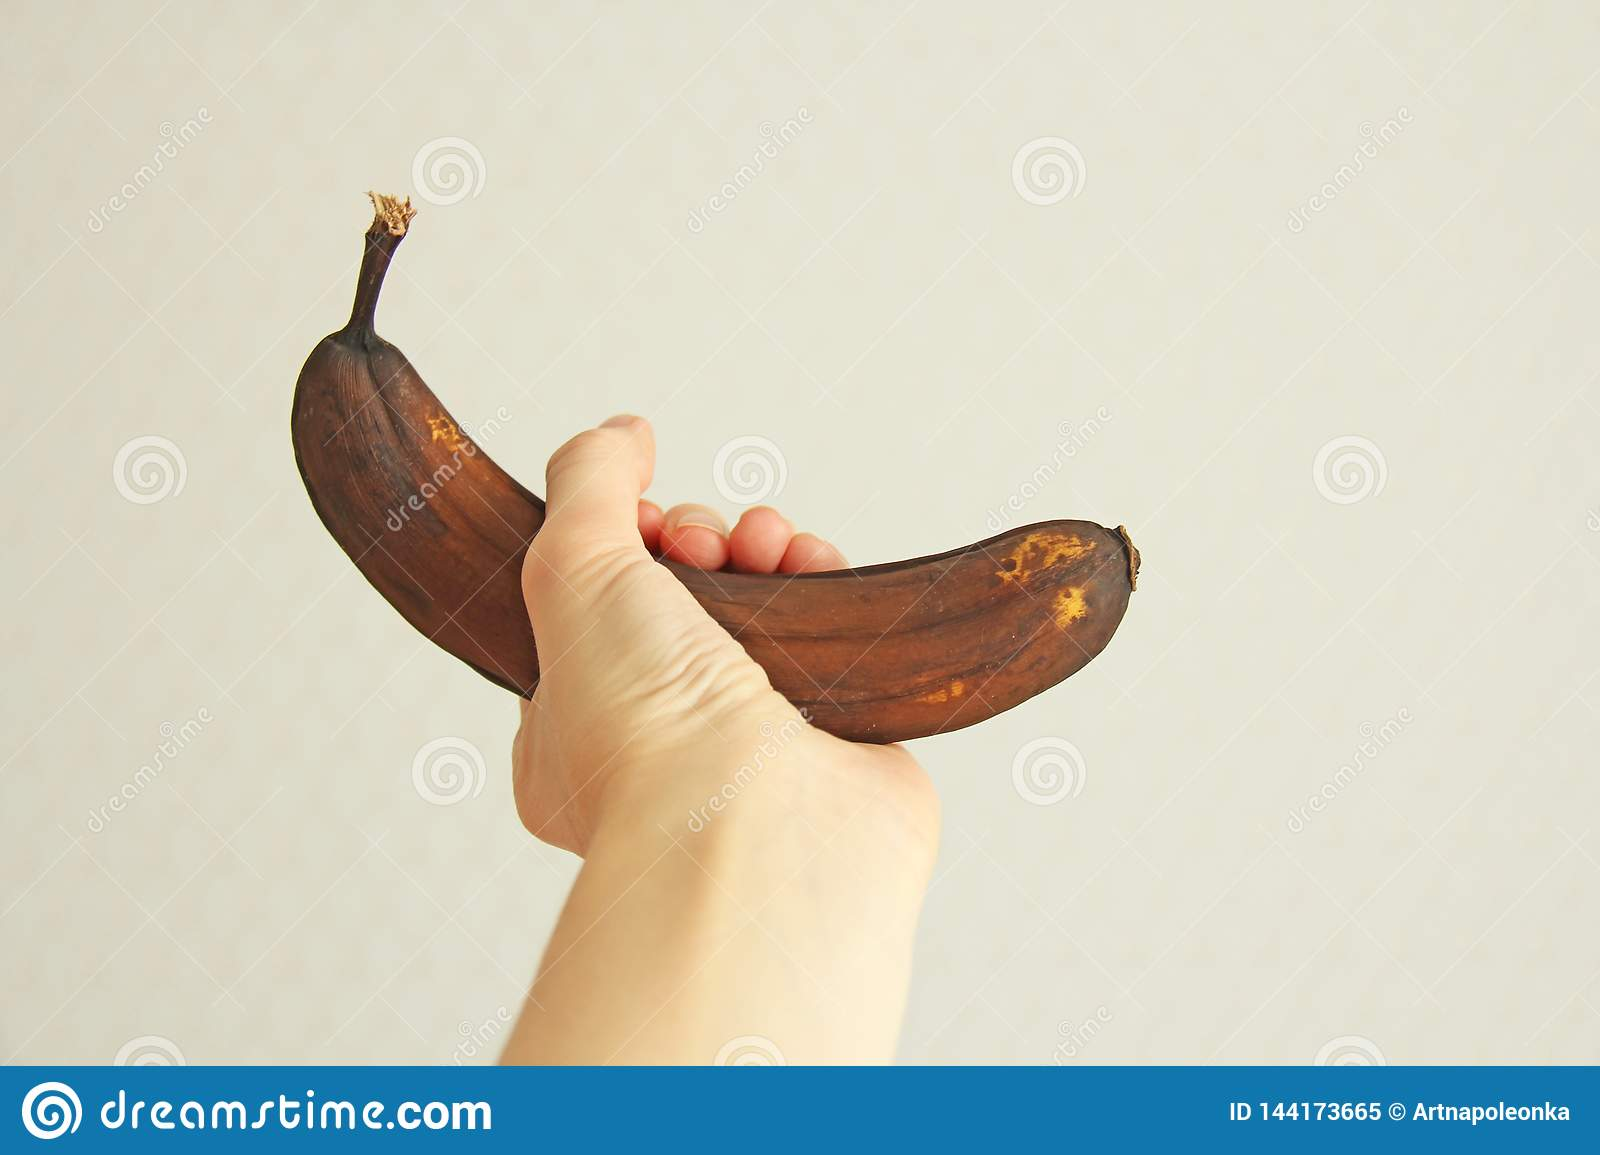looks_defective: (229, 129, 1202, 787)
